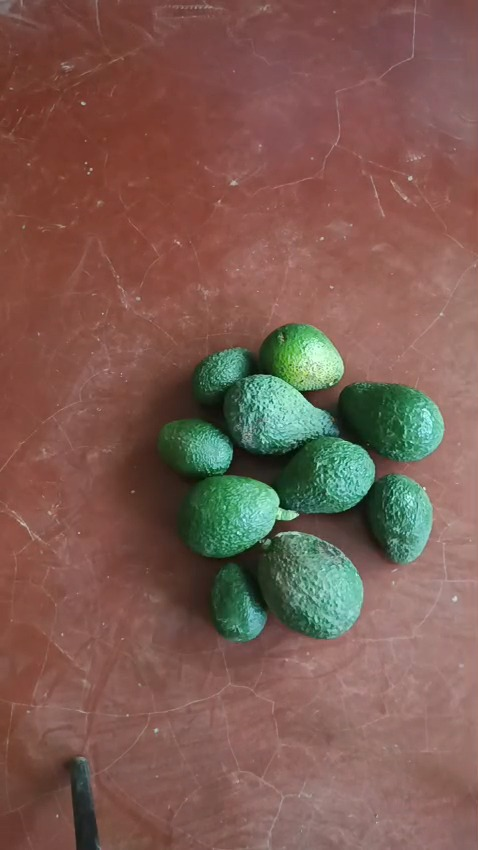Primera: (256, 531, 363, 637), (222, 375, 340, 455), (177, 475, 282, 557), (338, 381, 445, 461), (273, 436, 376, 513)
Segunda: (363, 473, 434, 563), (258, 323, 344, 391)
Tercera: (210, 559, 269, 640), (157, 418, 234, 477), (191, 347, 255, 407)
